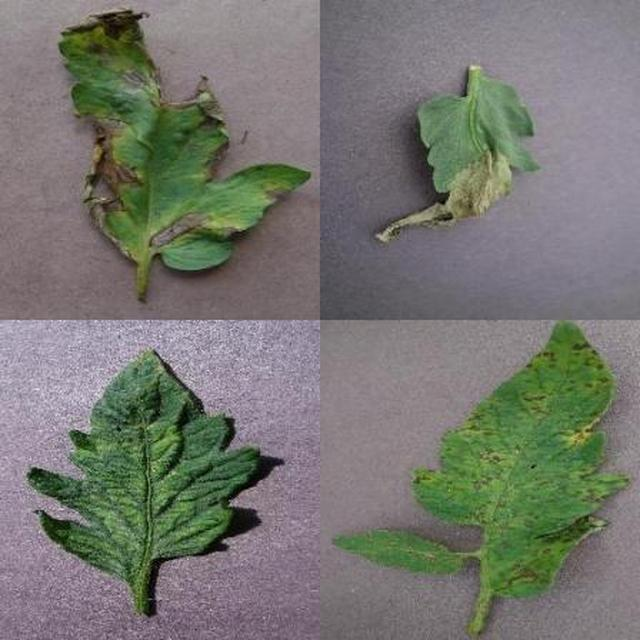Early Blight Leaf: (202, 201, 640, 640)
